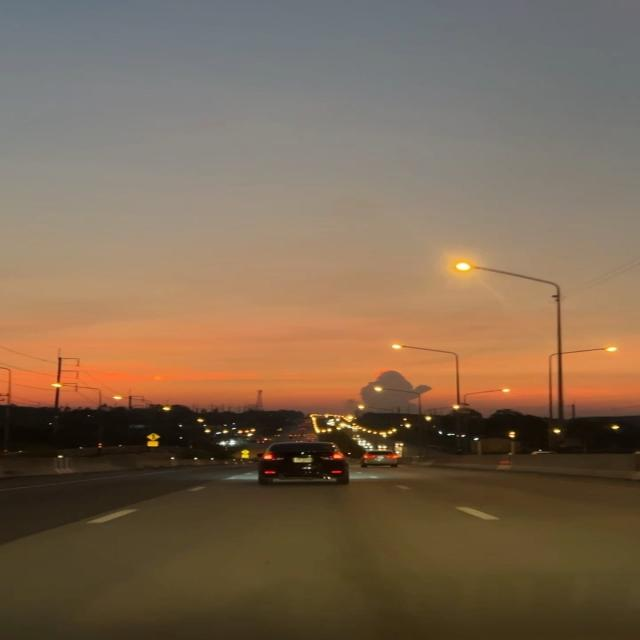Poth-hole: (121, 487, 626, 603)
